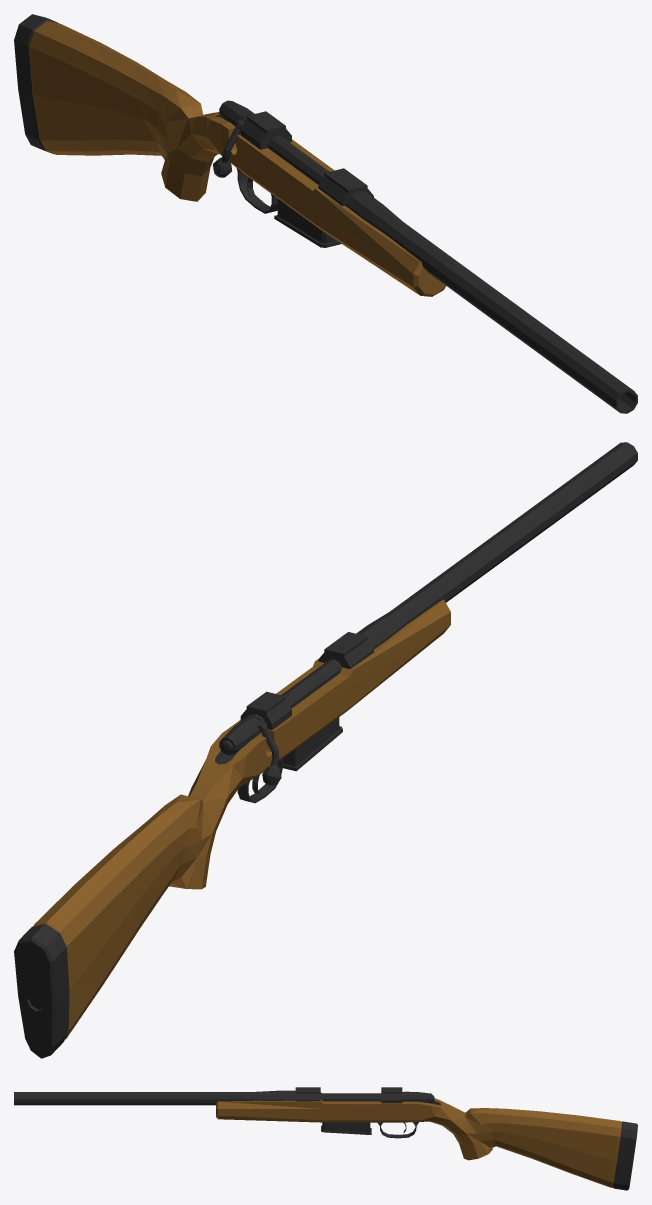
The picture shows the model from 3 angles, top to bottom: view 1: azimuth 30°, elevation 25°; view 2: azimuth 150°, elevation 25°; view 3: azimuth 270°, elevation 25°; orthographic projection. The views are drawn at different scales.
Visible parts, largest first — view 1: Stock, Barrel, Bolt, Magazine, Trigger_Guard; view 2: Stock, Barrel, Bolt, Magazine; view 3: Stock, Barrel, Bolt, Magazine, Trigger_Guard.
Part boxes in pixels (x1,y1,x2,y2): Stock: (14,14,445,296); Barrel: (240,111,637,413); Bolt: (213,100,329,184); Magazine: (274,198,341,247); Trigger_Guard: (236,168,277,213); Stock: (14,599,450,1058); Barrel: (240,442,637,730); Bolt: (219,659,341,785); Magazine: (282,717,342,771); Stock: (216,1092,637,1190); Barrel: (14,1087,402,1105); Bolt: (320,1091,434,1103); Magazine: (321,1122,371,1134); Trigger_Guard: (378,1122,418,1138).
Size of the model in its own units: 6.1 by 21.08 by 118.
